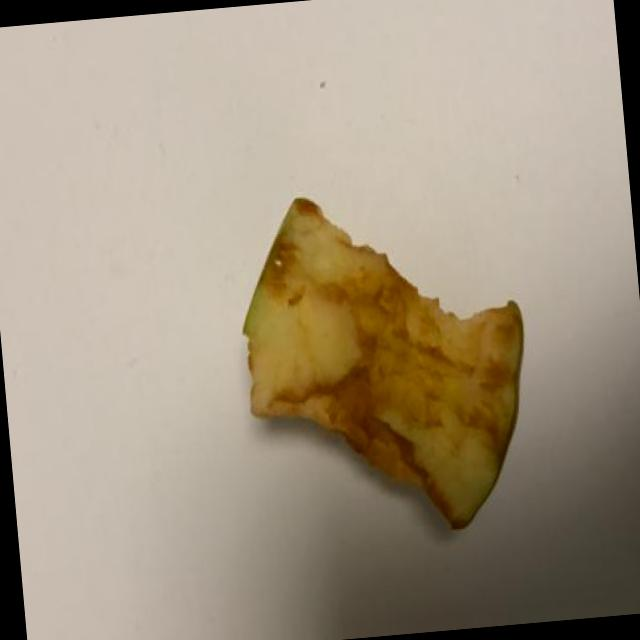Trash: (232, 186, 538, 543)
